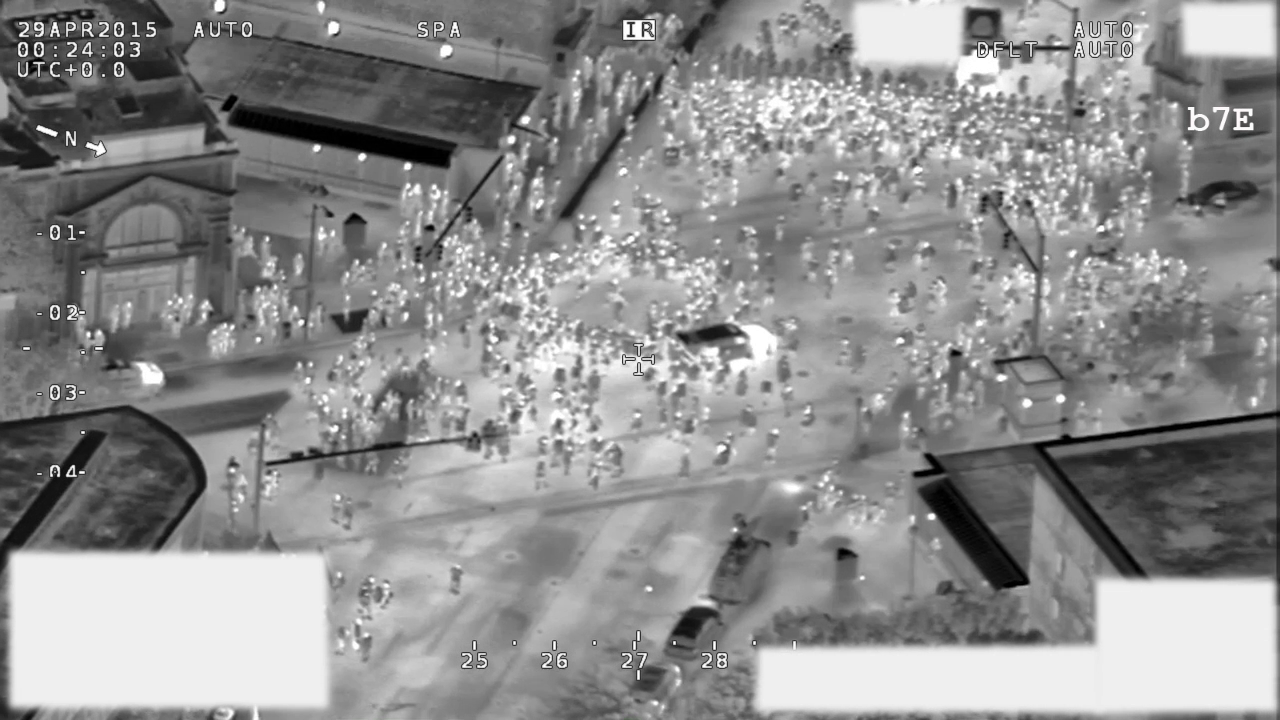vehicle: (667, 310, 782, 380), (703, 513, 783, 610), (68, 345, 168, 410), (1169, 172, 1273, 227), (654, 602, 729, 668), (958, 3, 1007, 90), (621, 658, 684, 720)
